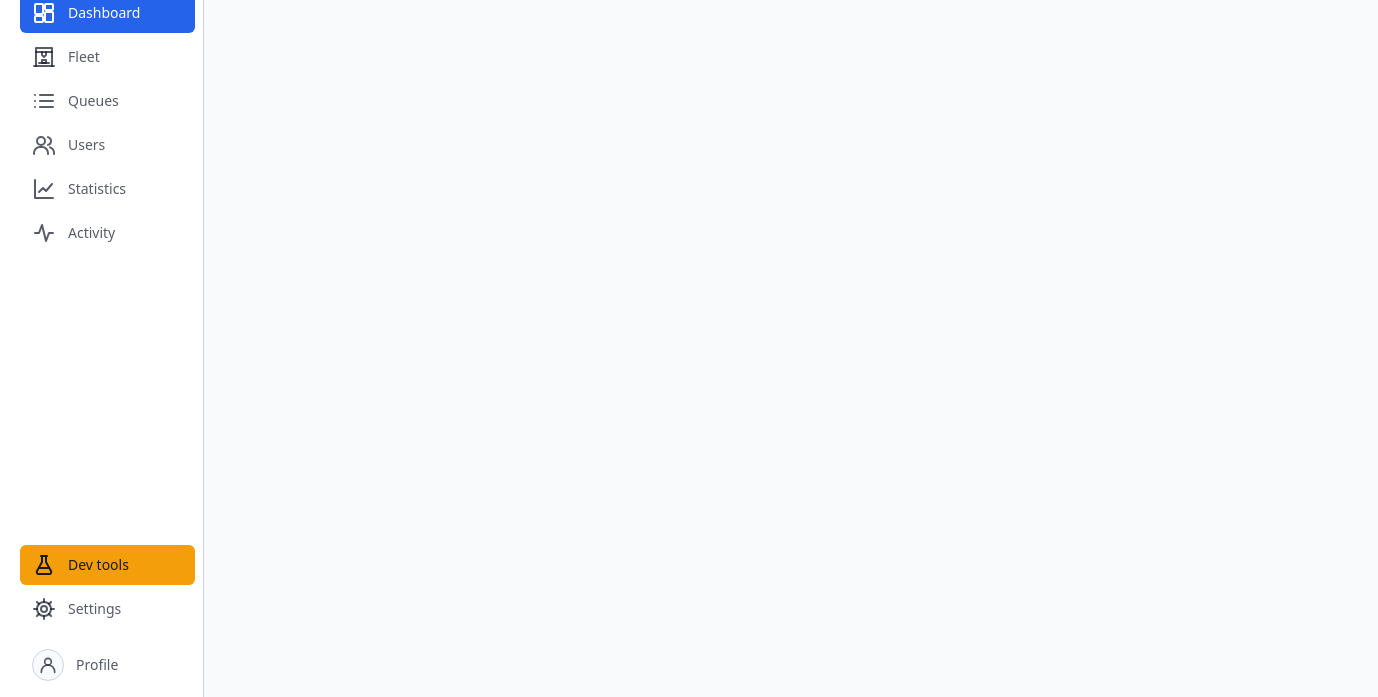
Test: shows the dev tools link when dev tools are on
The width and height of the screenshot is (1378, 697).
Click the link "Dev tools" at (108, 565), box [20,545,195,585]
(page scrolled)
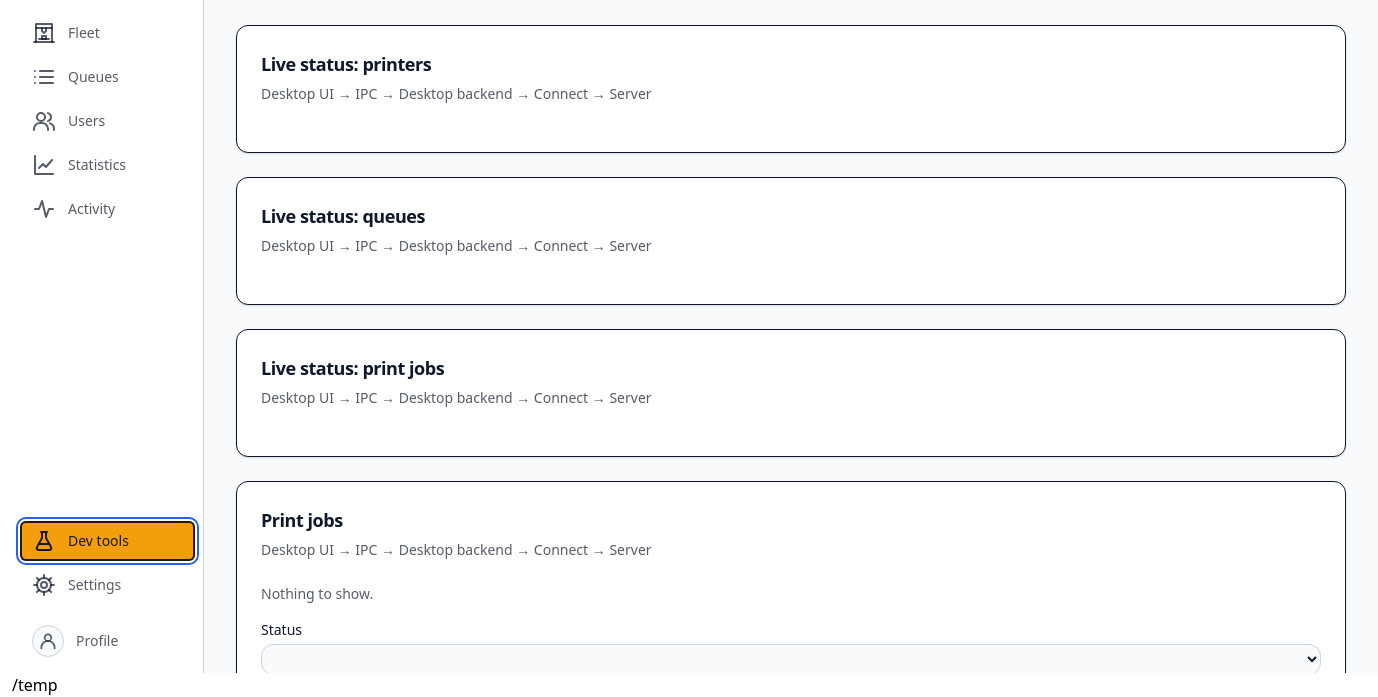
Now the text with test id "location" reads "/temp", box [12,674,58,696]
